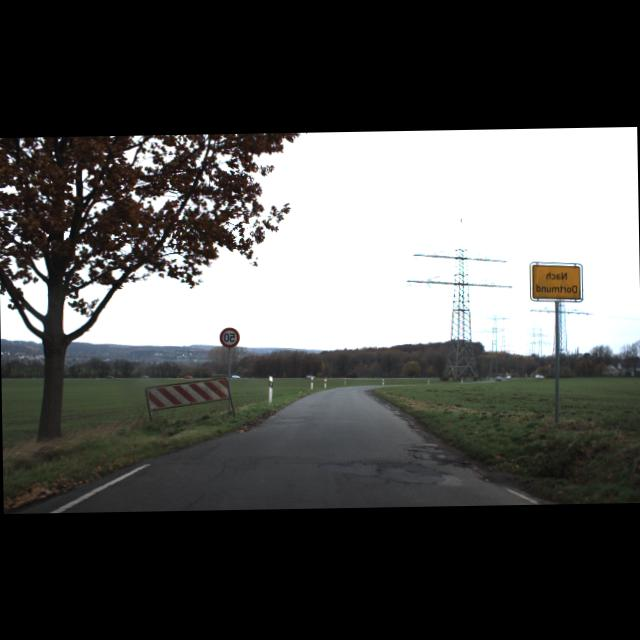prohibitory: (219, 327, 240, 348)
